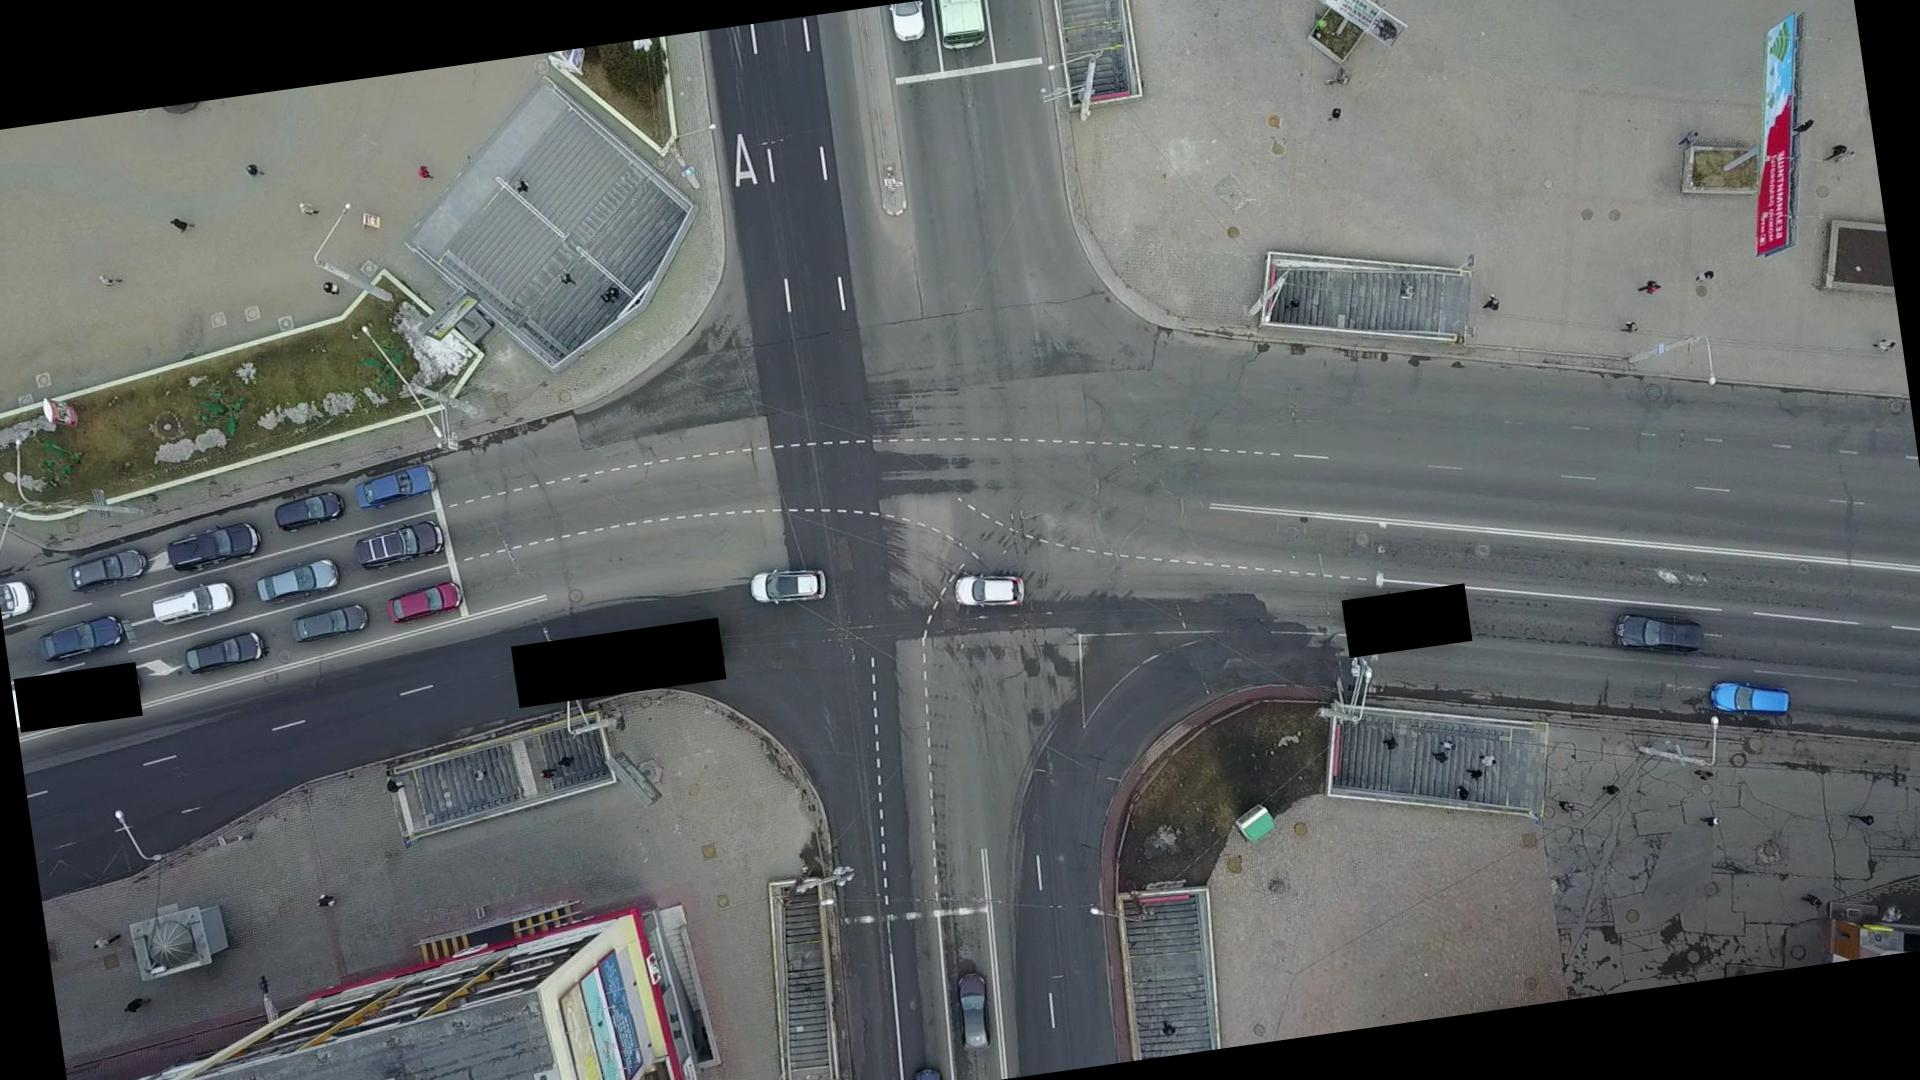vehicle: (162, 518, 264, 575), (1613, 603, 1706, 662), (352, 516, 447, 572), (34, 611, 128, 665), (1706, 673, 1795, 725), (65, 545, 152, 596), (255, 556, 342, 607), (150, 578, 236, 626), (351, 462, 438, 509), (951, 968, 997, 1054), (289, 600, 371, 647), (384, 579, 465, 625), (272, 487, 348, 535), (748, 563, 828, 608), (951, 567, 1027, 612)
